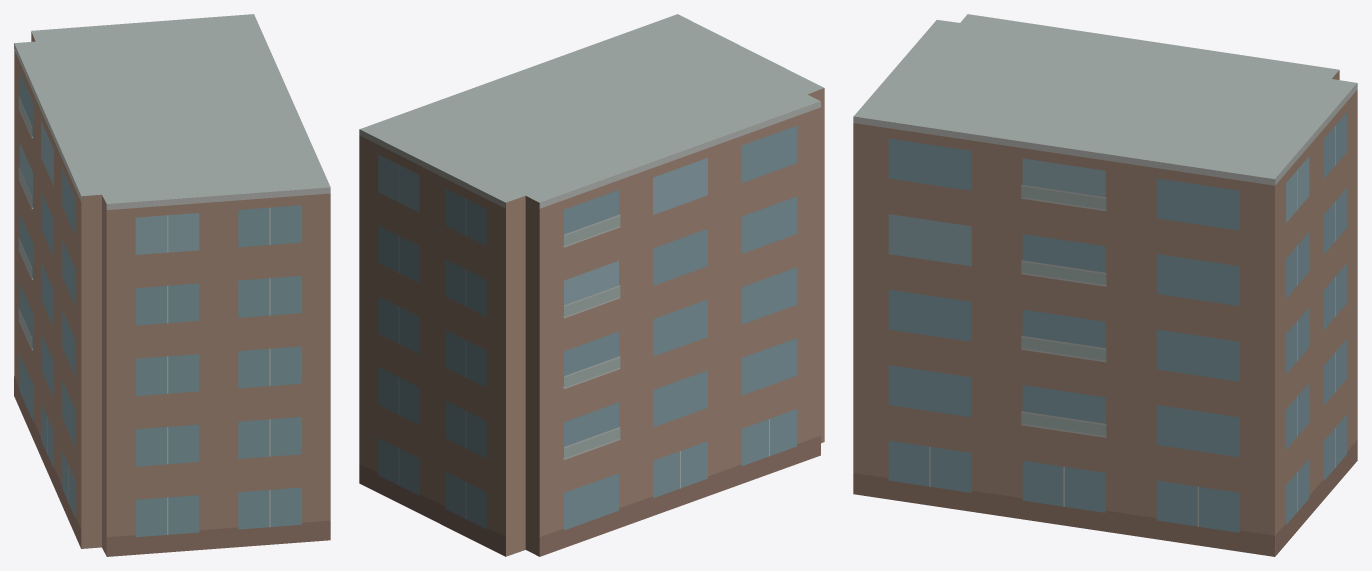
Rendered from survey-upis-33022230.glb.
3 renders of one model, left to right at view 1: azimuth 30°, elevation 25°; view 2: azimuth 150°, elevation 25°; view 3: azimuth 270°, elevation 25°, orthographic. The views are drawn at different scales.
Parts seen in each view (by area): view 1: survey-upis-33022230.tmp; view 2: survey-upis-33022230.tmp; view 3: survey-upis-33022230.tmp.
Boxes of the visible parts, box(x1,y1,x2,y2) form: survey-upis-33022230.tmp: box(14, 14, 330, 556); survey-upis-33022230.tmp: box(359, 14, 824, 556); survey-upis-33022230.tmp: box(853, 14, 1357, 556).
Size of the model in its own units: 13.33 by 14.2 by 17.19.
